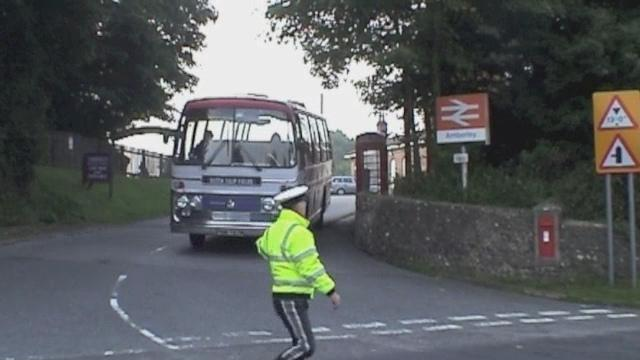bus: (170, 93, 333, 248)
car: (330, 175, 358, 194)
